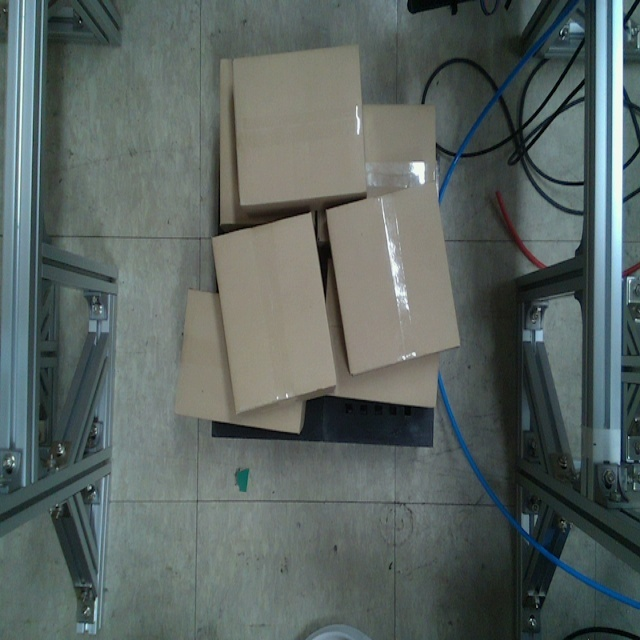box: (322, 179, 461, 376), (210, 210, 338, 415), (231, 44, 369, 207)
